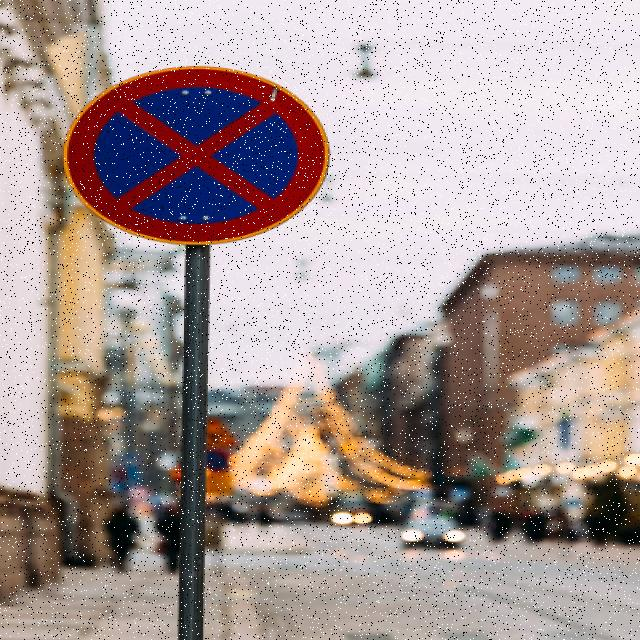no_parking: (56, 59, 346, 249)
